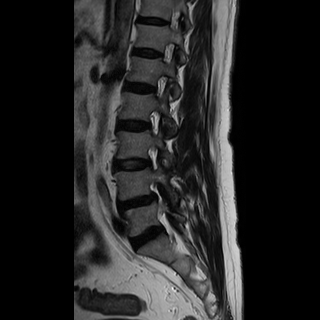LFS0: (147, 68, 173, 105), (140, 105, 165, 140), (141, 142, 166, 174)
